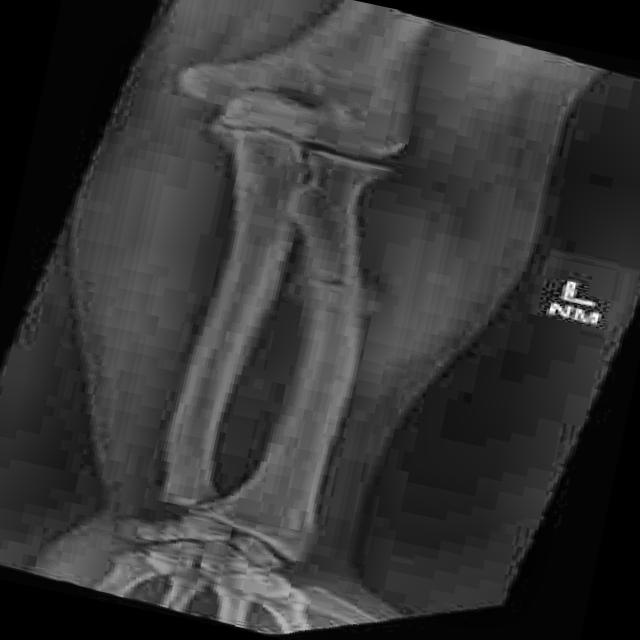forearm fracture: (235, 245, 425, 355)
